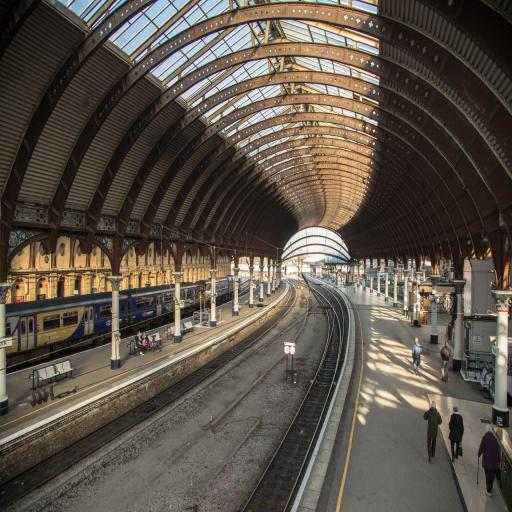platform_edge: (330, 317, 370, 512)
